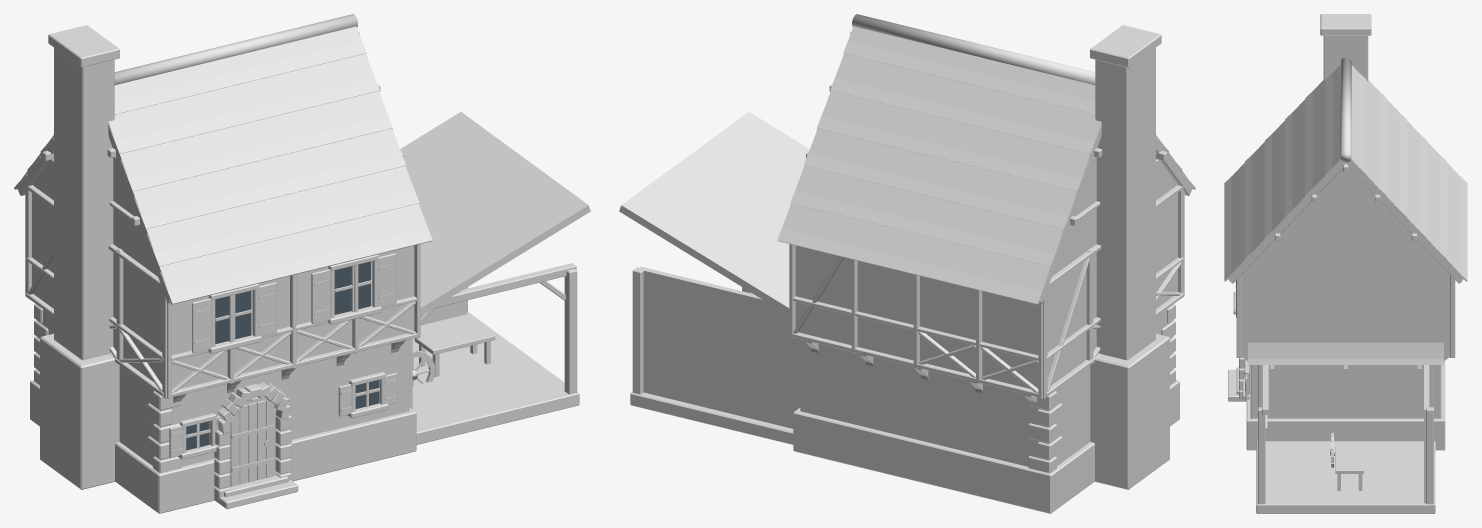
File: col_14_atelier_charron.fbx
3 views of the same model, side by side, from view 1: azimuth 30°, elevation 25°; view 2: azimuth 150°, elevation 25°; view 3: azimuth 270°, elevation 25° (orthographic). The views are drawn at different scales.
Visible parts, largest first — view 1: col_14_atelier_charron_LOD0; view 2: col_14_atelier_charron_LOD0; view 3: col_14_atelier_charron_LOD0.
Boxes of the visible parts, x1,y1,x2,y2 form: col_14_atelier_charron_LOD0: (14, 14, 590, 513); col_14_atelier_charron_LOD0: (619, 14, 1195, 513); col_14_atelier_charron_LOD0: (1224, 14, 1467, 513).
Size of what is drawn, in the model's own units: 10.87 by 9.53 by 6.39.
